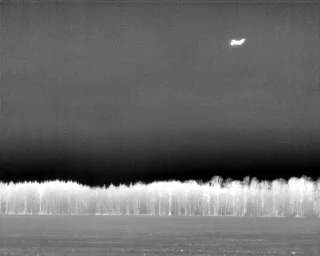DRONE: (226, 34, 249, 51)
